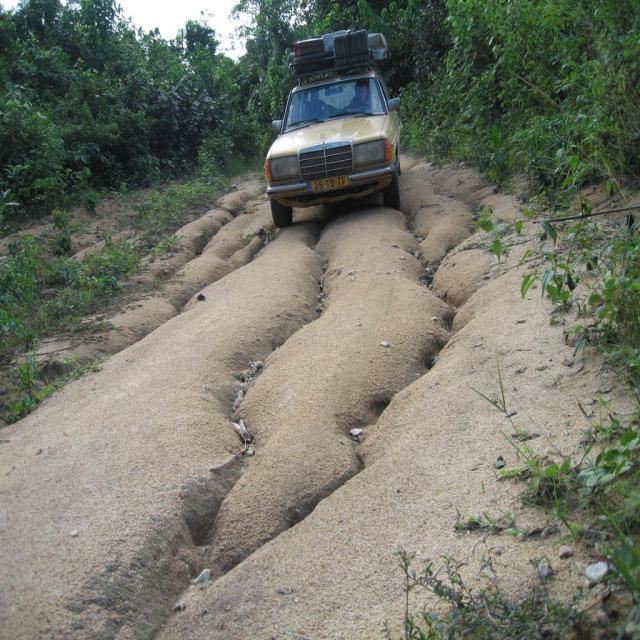car: (264, 59, 398, 224)
